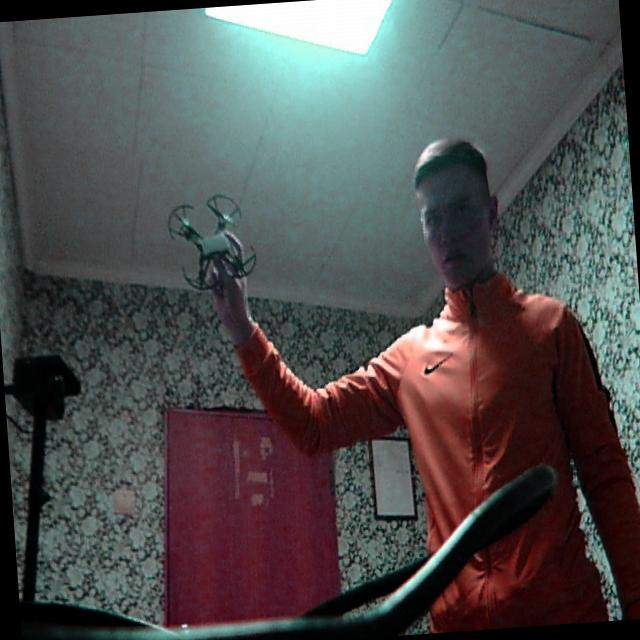drone: (158, 165, 270, 307)
